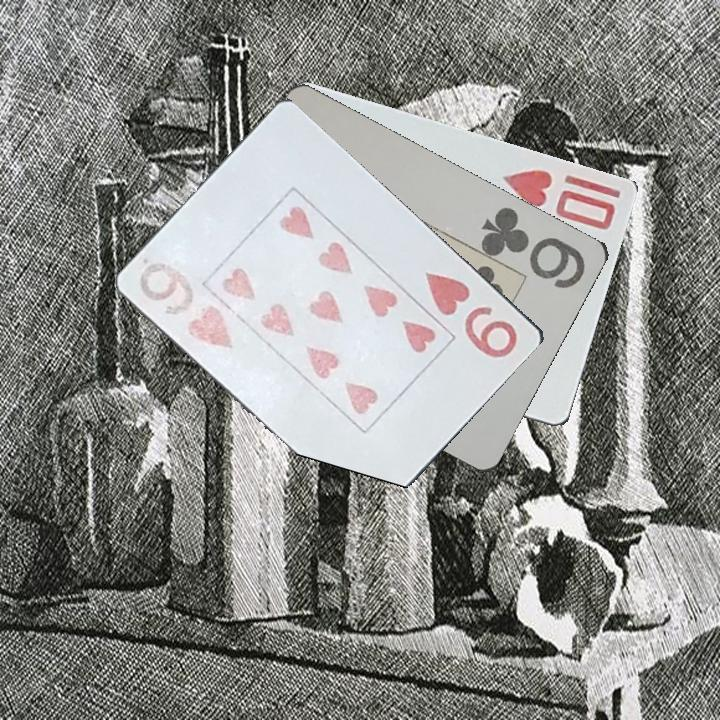6c: (477, 203, 589, 292)
9h: (136, 255, 239, 354), (421, 264, 521, 362)
Th: (499, 165, 619, 233)
